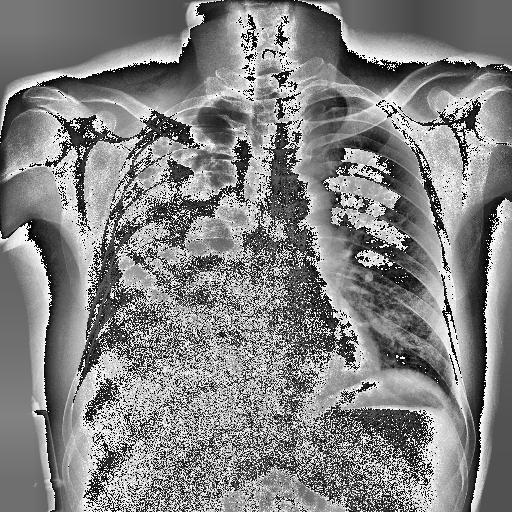10- Pleural effusion: (91, 94, 256, 406), (85, 102, 248, 412), (70, 268, 230, 427)
4- Consolidation: (98, 110, 243, 316)
6- Infiltration: (373, 296, 439, 364)
7- Lung Opacity: (98, 110, 243, 316), (121, 123, 235, 305), (141, 137, 237, 196)
9- Other lesion: (111, 251, 175, 303), (181, 217, 238, 256)
